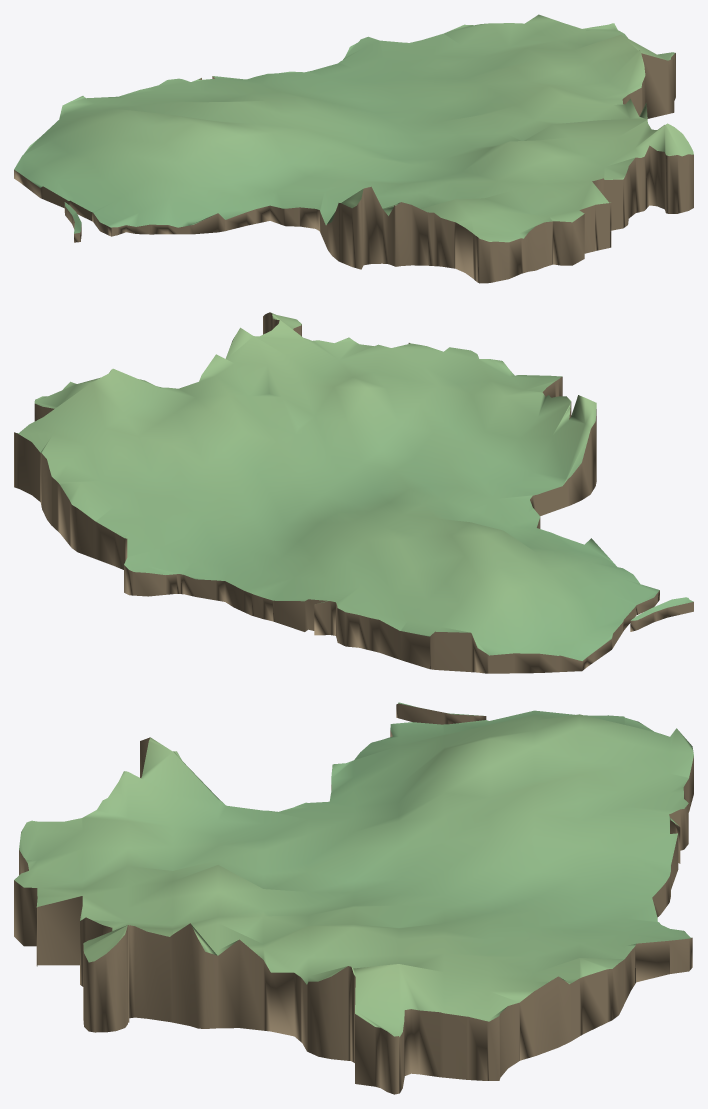
Rendered from LTU.glb.
3 views of the same model, one above another, from view 1: azimuth 30°, elevation 25°; view 2: azimuth 150°, elevation 25°; view 3: azimuth 270°, elevation 25° (orthographic). The views are drawn at different scales.
Parts seen in each view (by area): view 1: LTU; view 2: LTU; view 3: LTU.
Boxes of the visible parts, x1,y1,x2,y2 form: LTU: (14, 14, 693, 283); LTU: (14, 312, 693, 673); LTU: (14, 702, 693, 1094).
Size of the model in its own units: 1.73 by 0.2177 by 1.3.
